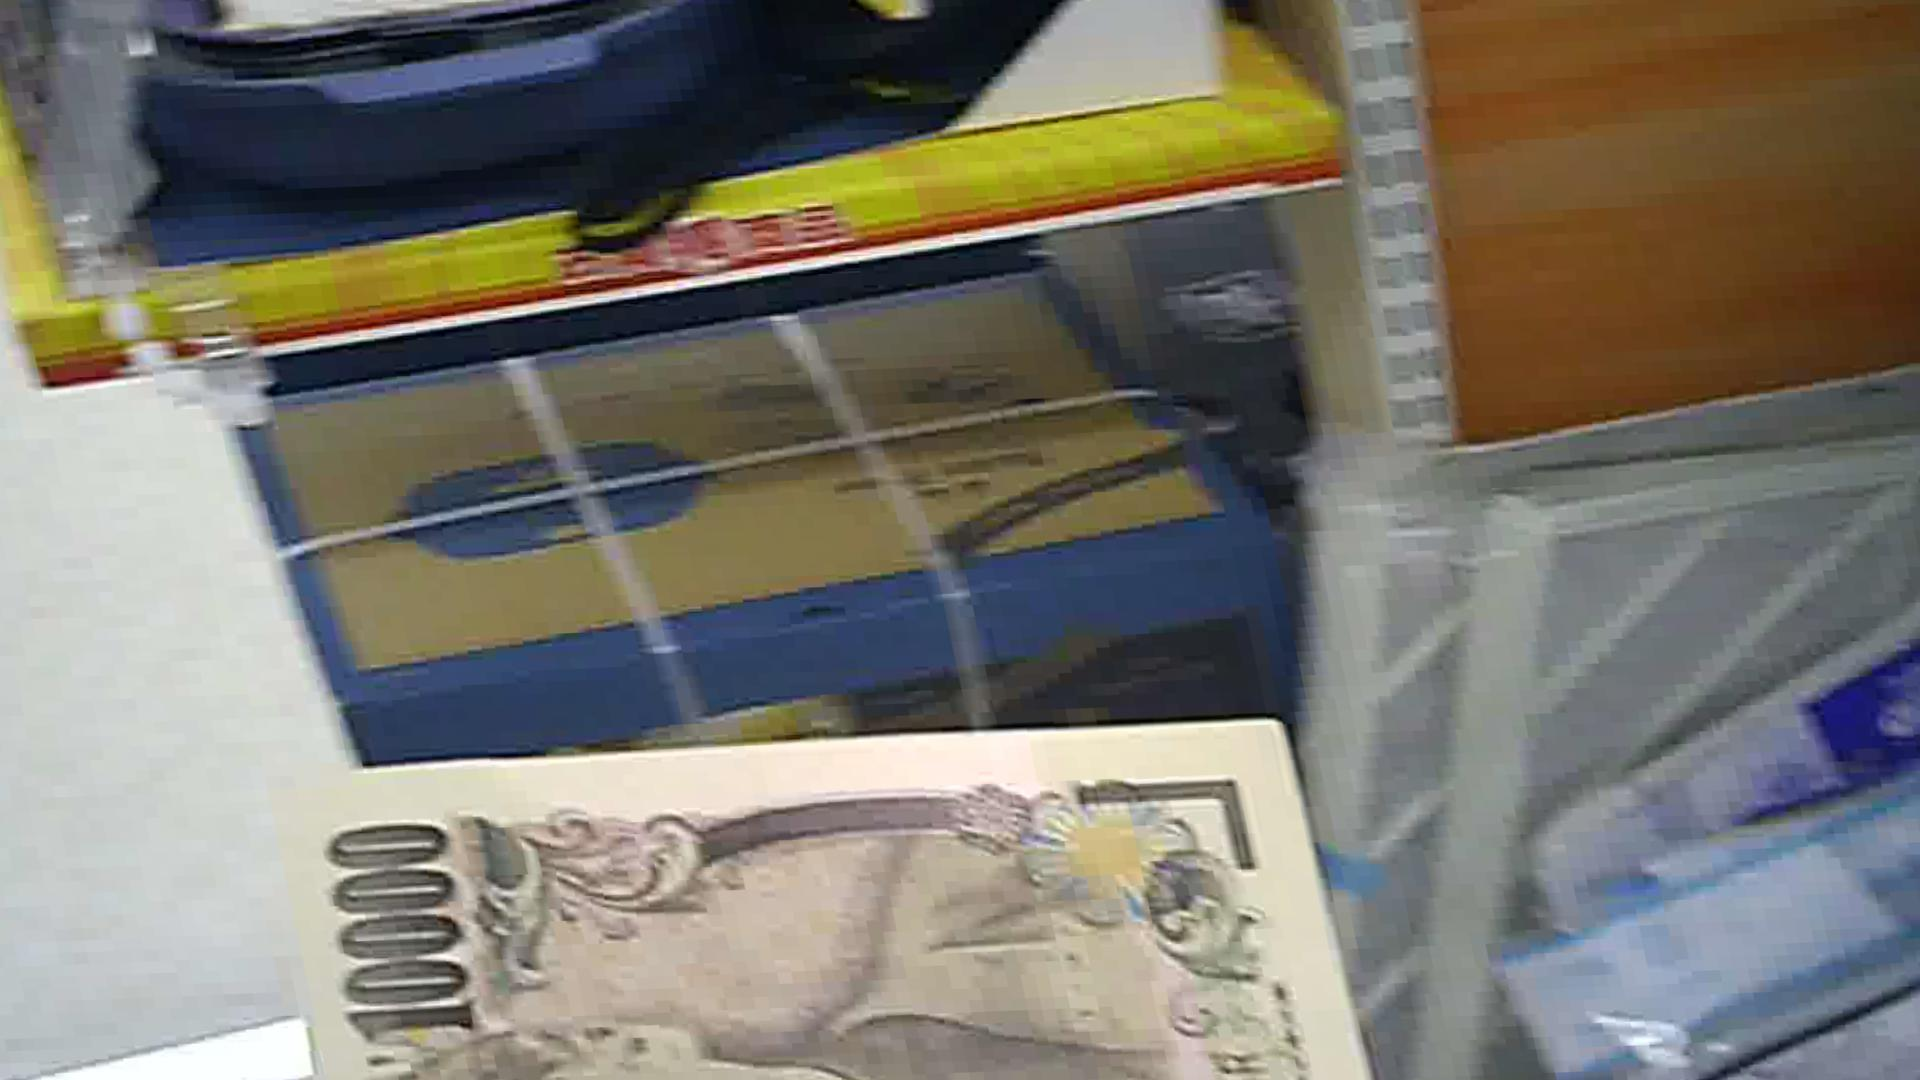10,000 Yen: (280, 725, 1378, 1079)
